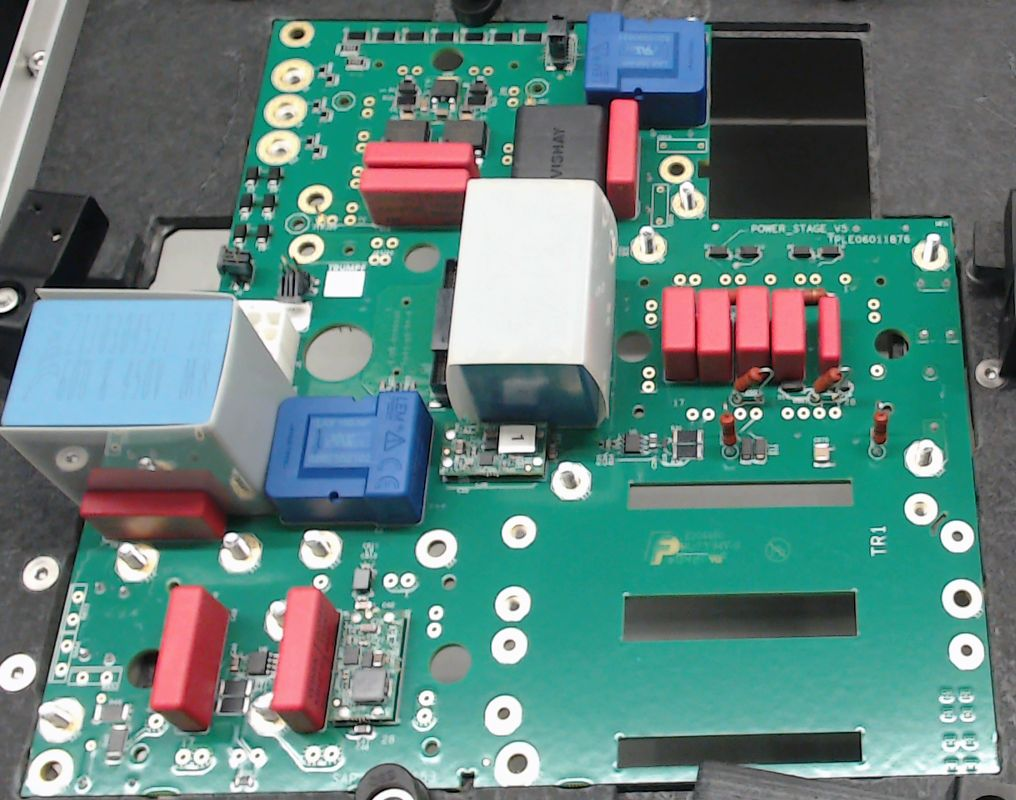comp1: (267, 390, 434, 528), (579, 11, 710, 128)
comp2: (149, 585, 231, 731), (272, 589, 344, 733), (75, 490, 231, 542), (358, 167, 473, 222), (604, 99, 643, 217), (694, 286, 736, 385), (658, 285, 695, 382), (770, 286, 808, 377), (734, 284, 773, 366), (362, 140, 477, 165), (817, 294, 843, 372)
comp3: (510, 101, 609, 185)
comp4: (5, 286, 298, 519), (442, 180, 618, 433)
